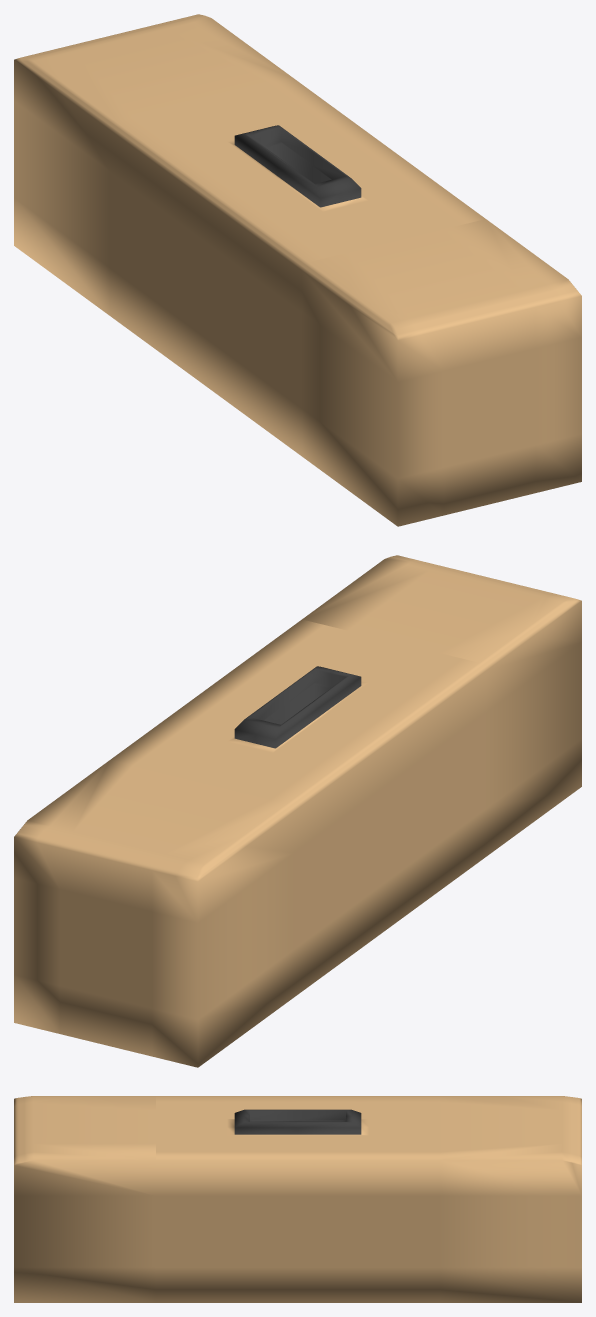
File: saw.fbx
3 renders of one model, top to bottom at view 1: azimuth 30°, elevation 25°; view 2: azimuth 150°, elevation 25°; view 3: azimuth 270°, elevation 25°, orthographic. The views are drawn at different scales.
Visible parts, largest first — view 1: Cube; view 2: Cube; view 3: Cube.
Part boxes in pixels (x1=…): Cube: x1=14, y1=14, x2=581, y2=526; Cube: x1=14, y1=555, x2=581, y2=1067; Cube: x1=14, y1=1096, x2=581, y2=1302.
Bounding box in the file's own units: 200 × 215 × 722.
